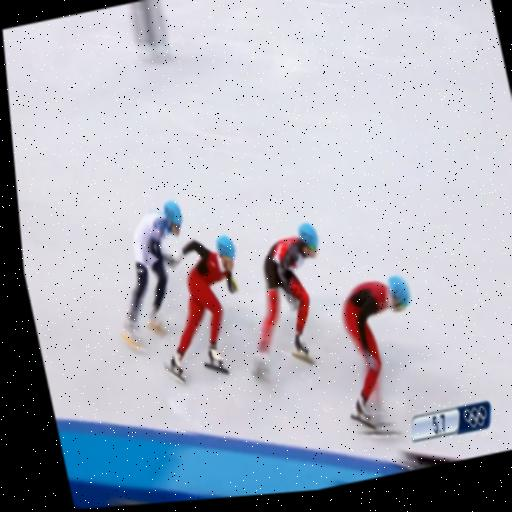Skater: (166, 236, 237, 383), (343, 276, 410, 429), (254, 223, 319, 378), (121, 201, 183, 350)
